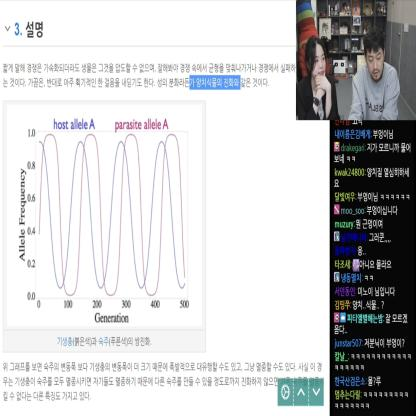streamer: (348, 25, 400, 120), (296, 36, 340, 120)
